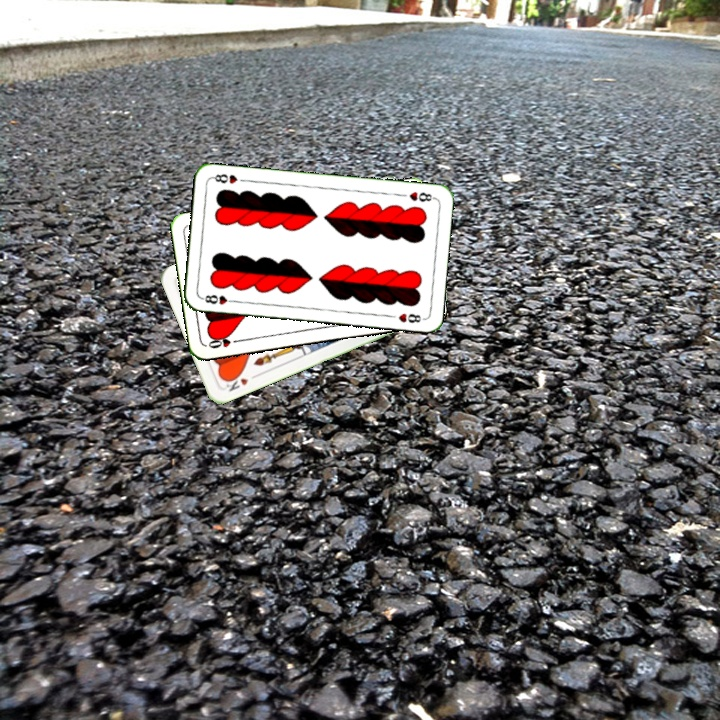H8: (198, 291, 239, 307), (405, 188, 437, 204)
HK: (221, 370, 251, 394)
HO: (204, 332, 244, 351)
